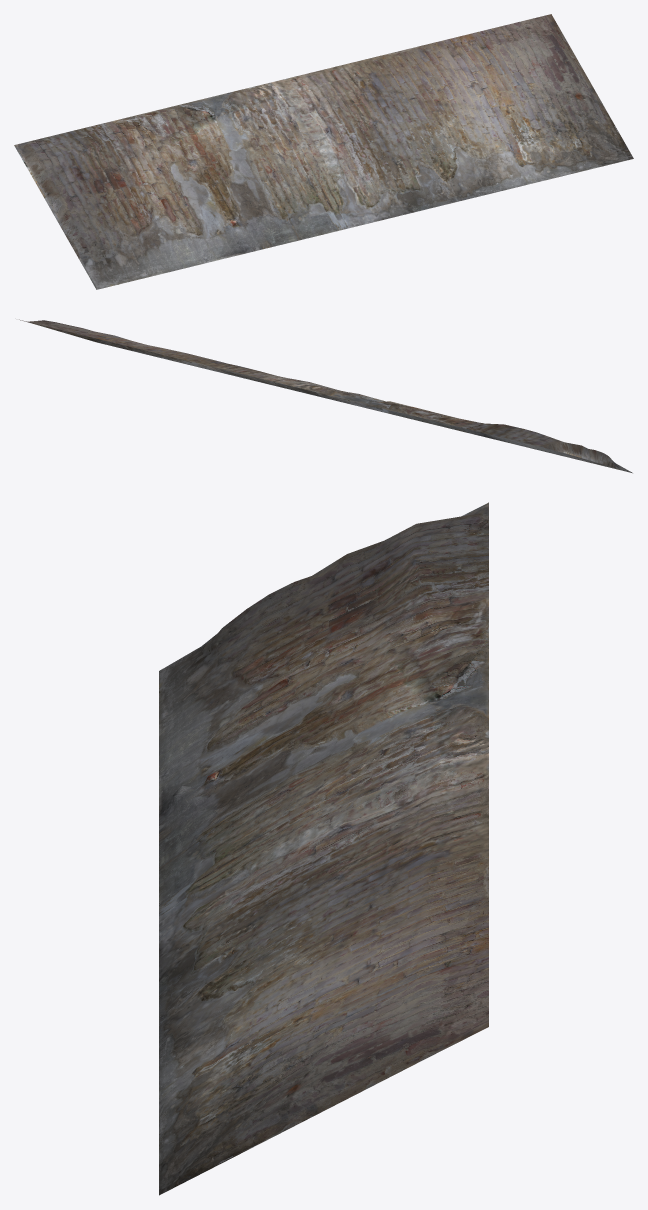
The model's file is SM_CryptCeiling_01_01.fbx.
3 renders of one model, top to bottom at view 1: azimuth 30°, elevation 25°; view 2: azimuth 150°, elevation 25°; view 3: azimuth 270°, elevation 25°, orthographic. The views are drawn at different scales.
Parts seen in each view (by area): view 1: sm_CryptCeiling_01_01_LOD0; view 2: sm_CryptCeiling_01_01_LOD0; view 3: sm_CryptCeiling_01_01_LOD0.
Part boxes in pixels (box(x1,y1,x2,y2)): sm_CryptCeiling_01_01_LOD0: box(14, 14, 633, 289); sm_CryptCeiling_01_01_LOD0: box(19, 319, 632, 473); sm_CryptCeiling_01_01_LOD0: box(159, 502, 488, 1195).
Size of the model in its own units: 189 by 710 by 109.
